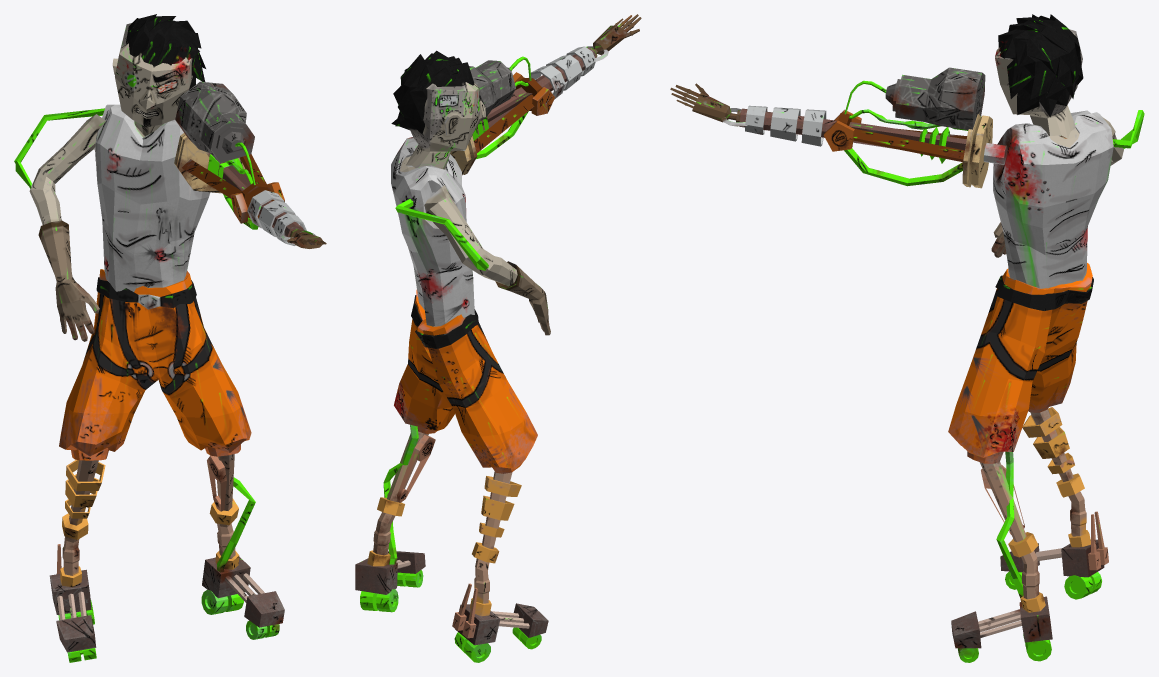
Rendered from CyborgFINALAnimation_000111.obj.
3 renders of one model, left to right at view 1: azimuth 30°, elevation 25°; view 2: azimuth 150°, elevation 25°; view 3: azimuth 270°, elevation 25°, orthographic. The views are drawn at different scales.
Visible parts, largest first — view 1: CyborgMesh_Cube.002; view 2: CyborgMesh_Cube.002; view 3: CyborgMesh_Cube.002.
Part boxes in pixels (box(x1,y1,x2,y2)): CyborgMesh_Cube.002: box(14, 14, 326, 662); CyborgMesh_Cube.002: box(355, 14, 641, 662); CyborgMesh_Cube.002: box(670, 14, 1144, 662).
Size of the model in its own units: 3.19 by 9.61 by 6.76.
